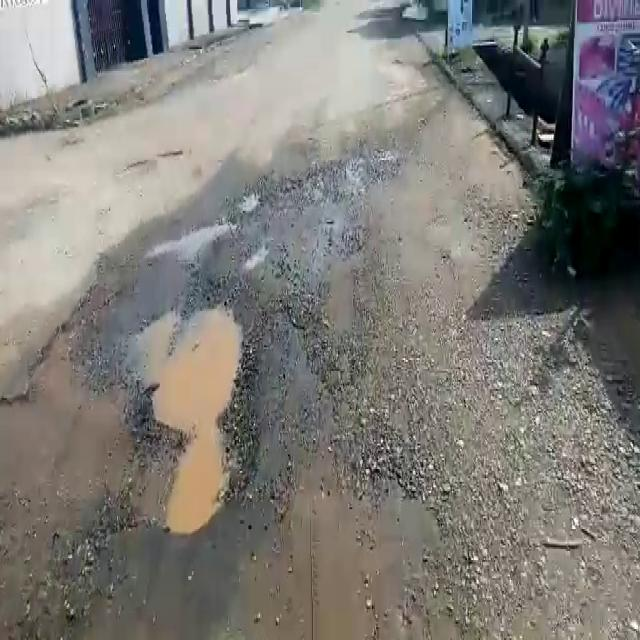Pothole: (103, 285, 259, 528), (240, 188, 262, 212)
